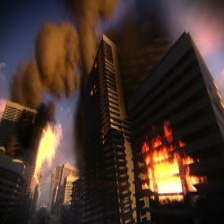fire: (145, 152, 190, 192), (30, 127, 55, 189)
smoke: (5, 1, 169, 105)
